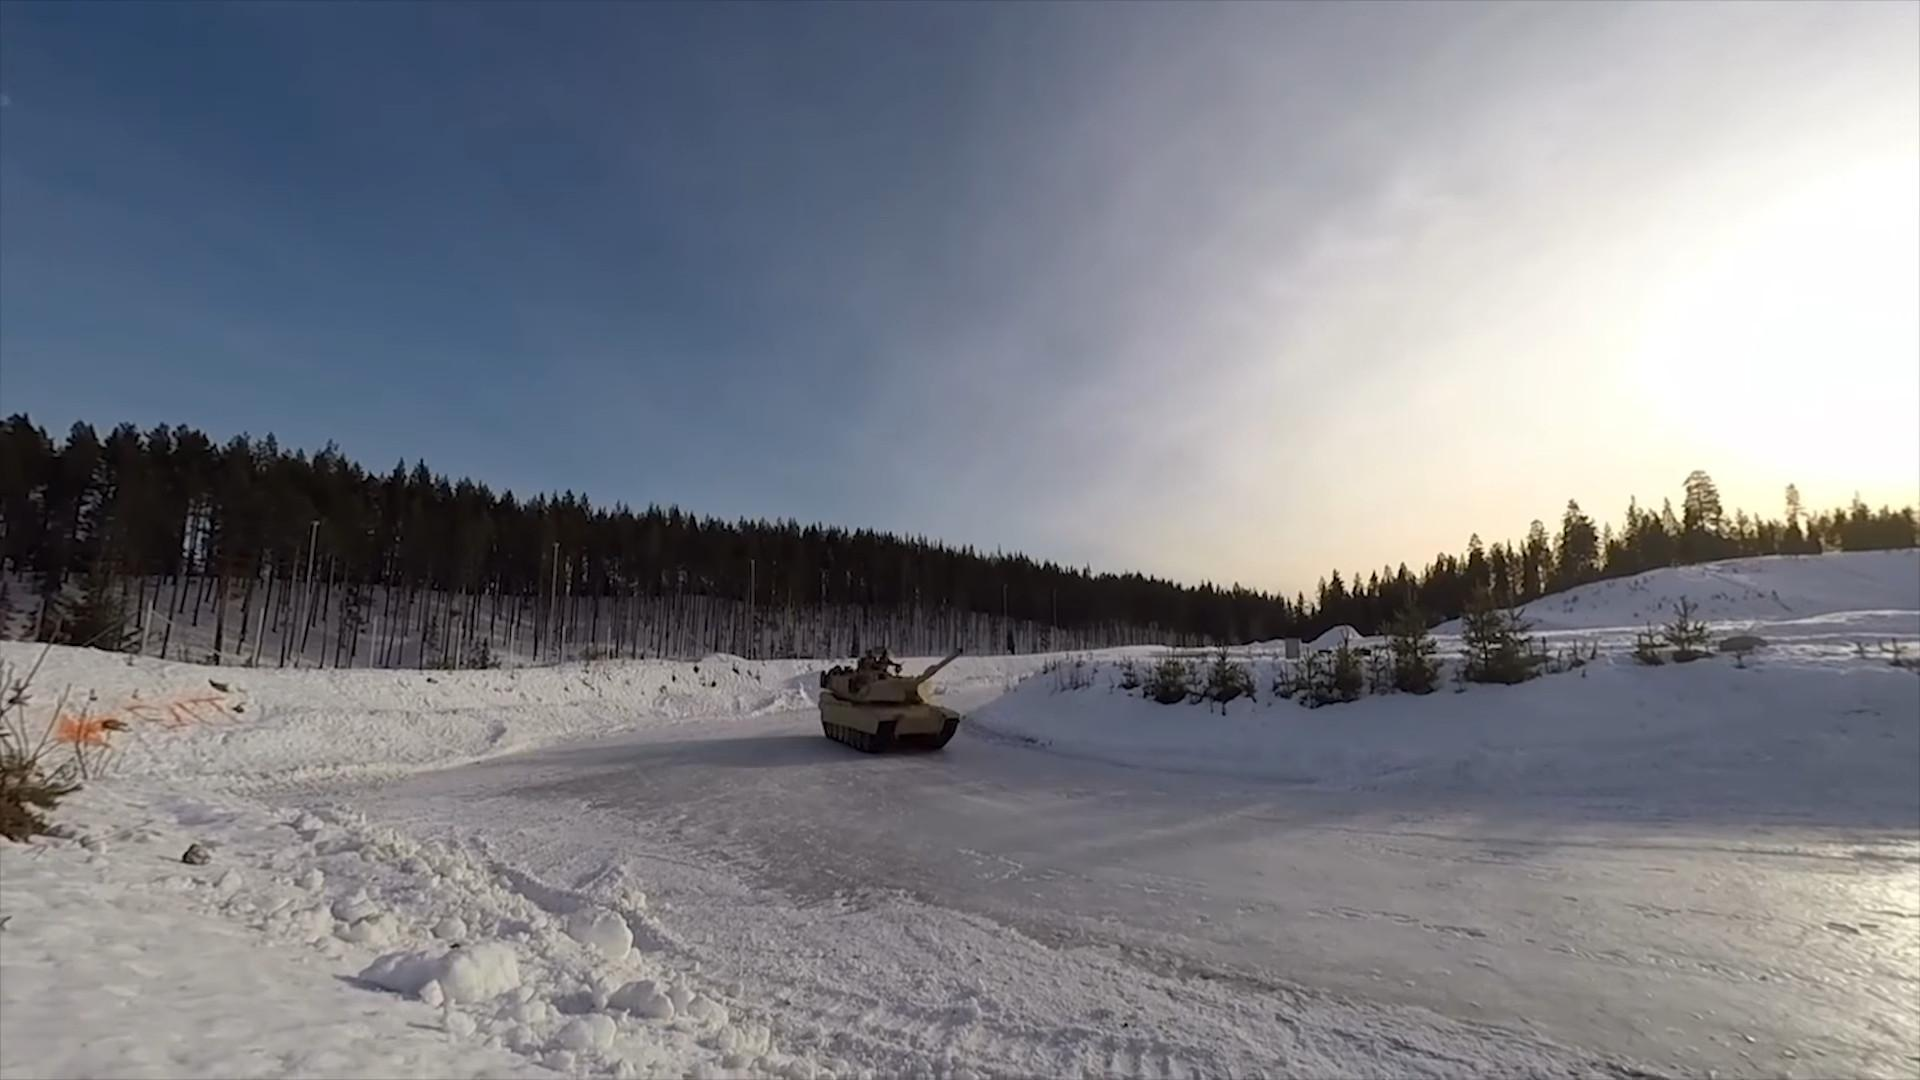tank: (820, 649, 964, 754)
